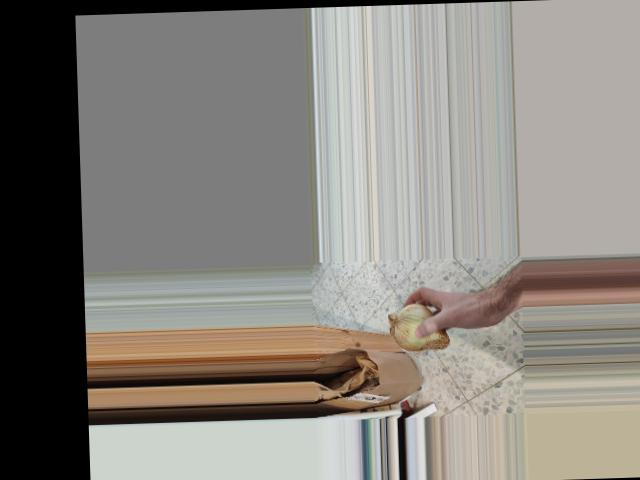onion: (387, 297, 452, 355)
